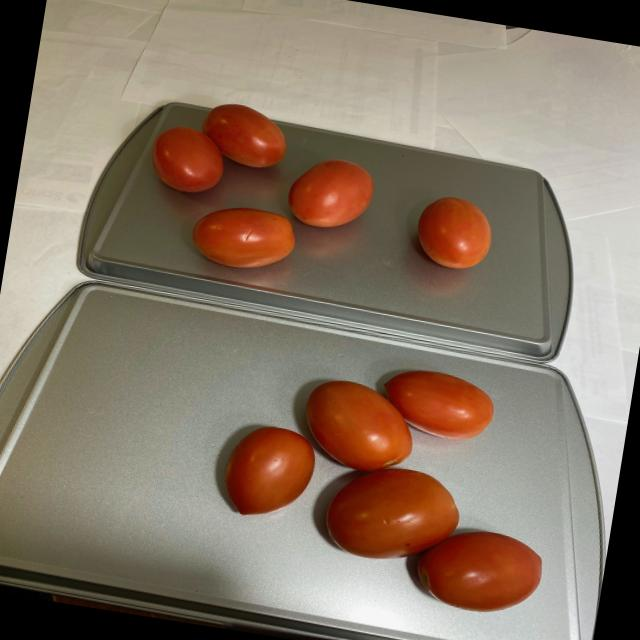tomato: (204, 338, 568, 616), (134, 92, 504, 308)
